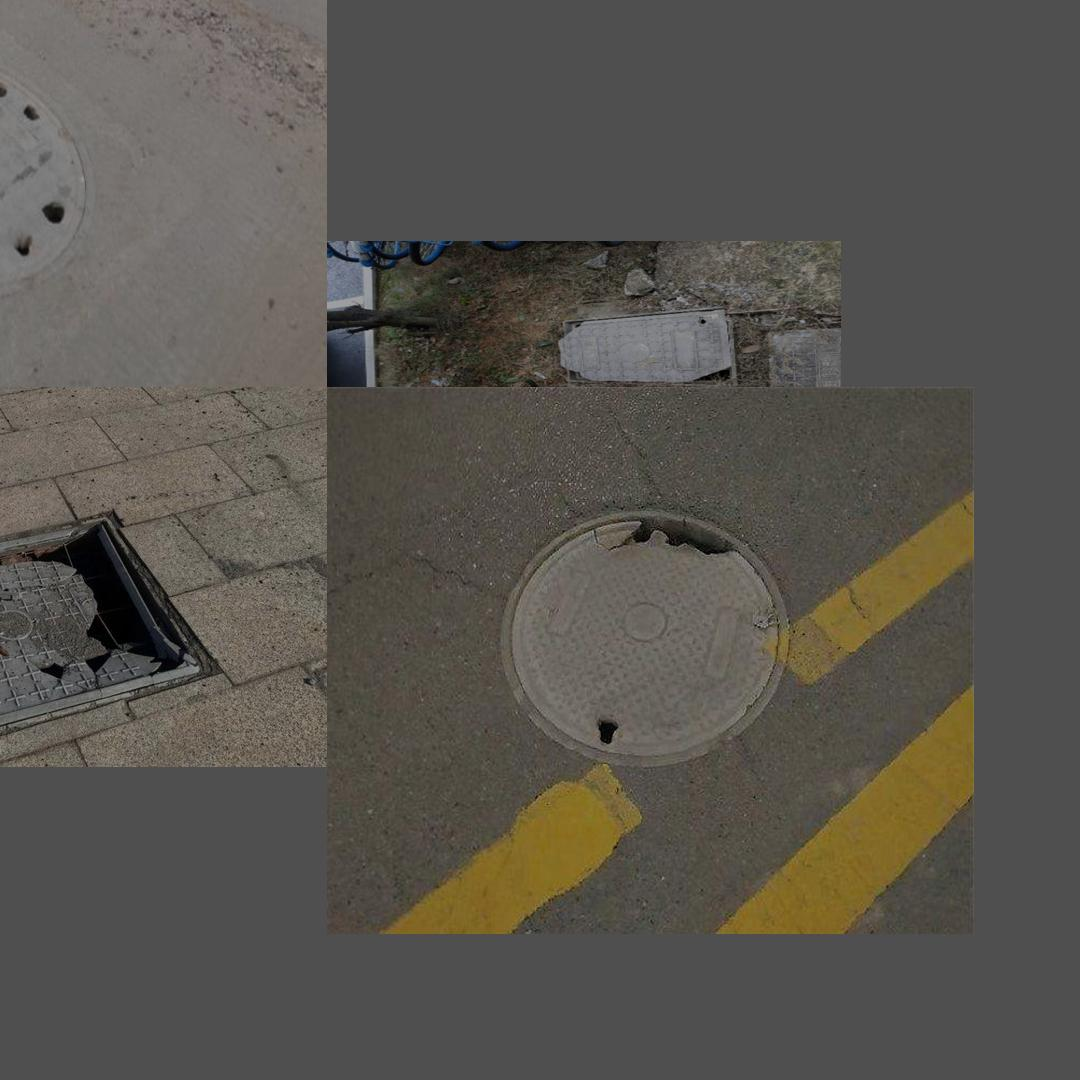broke: (500, 509, 788, 767), (0, 503, 223, 766), (0, 45, 94, 289), (553, 318, 742, 382)
